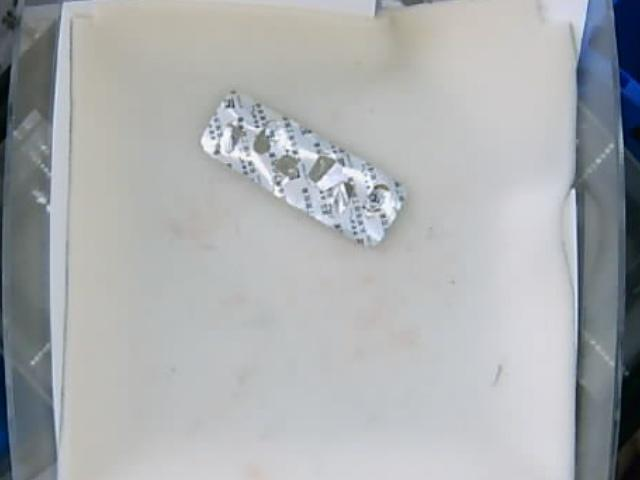Medicine: (202, 92, 407, 246)
